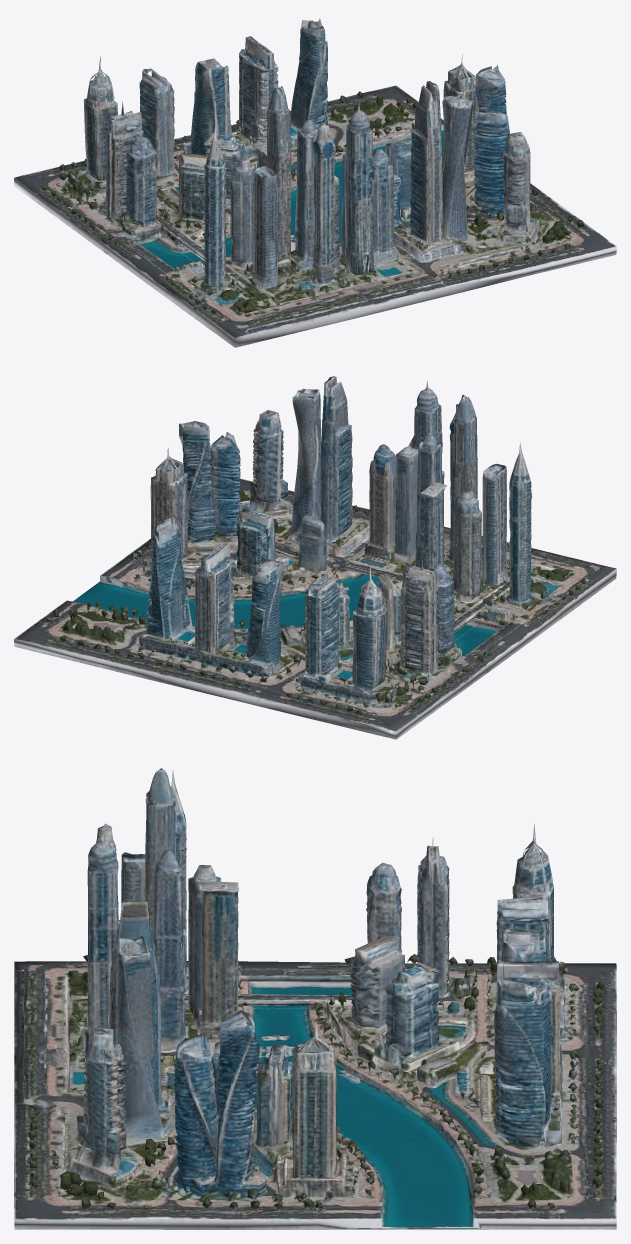
The model's file is dubai_business_bay_far.glb.
3 renders of one model, top to bottom at view 1: azimuth 30°, elevation 25°; view 2: azimuth 150°, elevation 25°; view 3: azimuth 270°, elevation 25°, orthographic. The views are drawn at different scales.
Parts seen in each view (by area): view 1: dubai_business_bay; view 2: dubai_business_bay; view 3: dubai_business_bay.
Boxes of the visible parts, bbox=[...] form: dubai_business_bay: bbox=[14, 18, 616, 347]; dubai_business_bay: bbox=[14, 376, 616, 739]; dubai_business_bay: bbox=[14, 768, 616, 1229].
Size of the model in its own units: 1.9 by 0.9413 by 1.9.
Materials: 1 (1 with a texture image).
